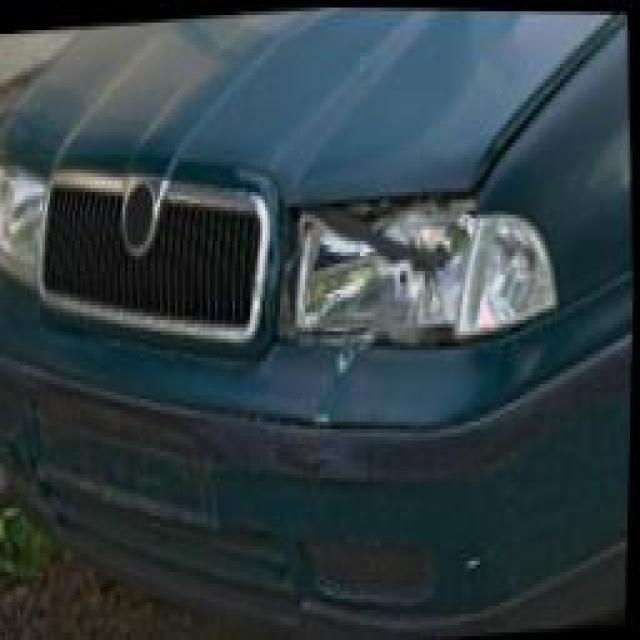Light: (295, 184, 508, 331)
